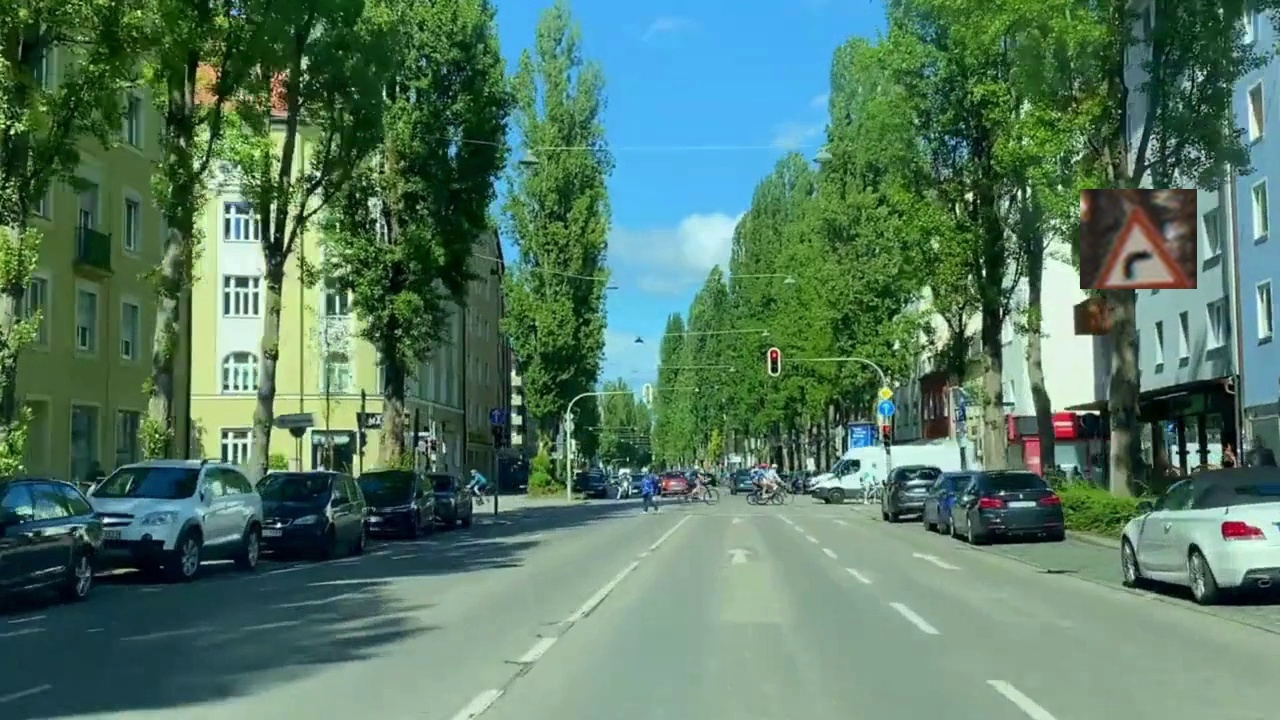Curve right: (1080, 189, 1197, 289)
